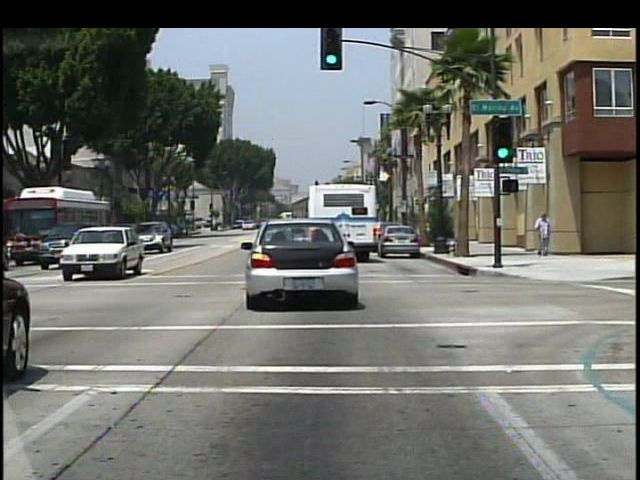person: (534, 213, 552, 258)
